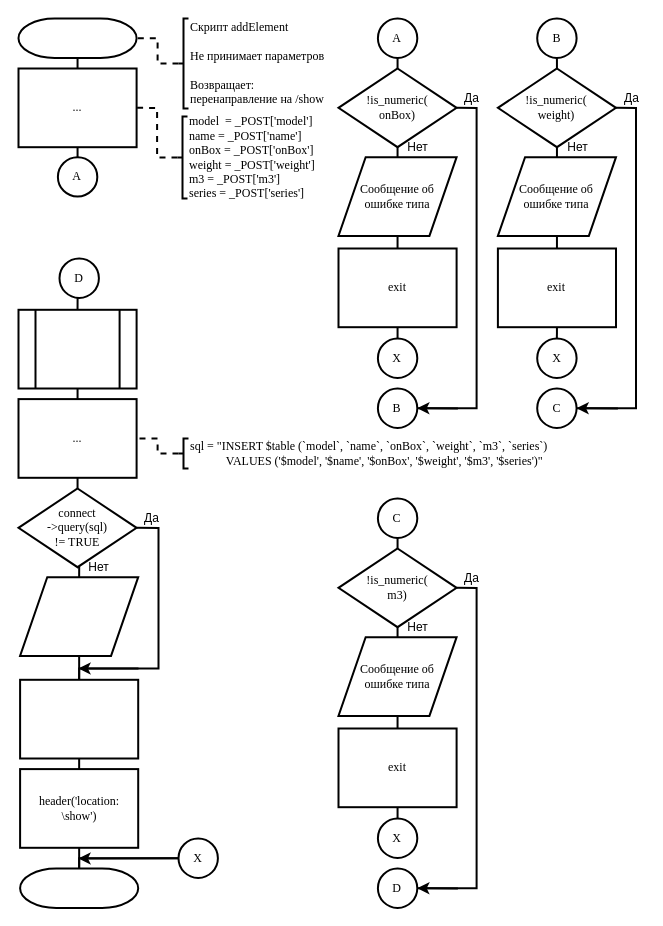
Some shapes in this 663 by 926 pixel diagram are drawn without their labels. The centre of each missing label's shape, as x and y in pixels:
"connect->close()" belongs at (79,718).
"include connect.php" belongs at (77,348).
"Конец" belongs at (79,887).
"Начало" belongs at (77,37).
"Сообщение о невыполнении скрипта" belongs at (79,616).
